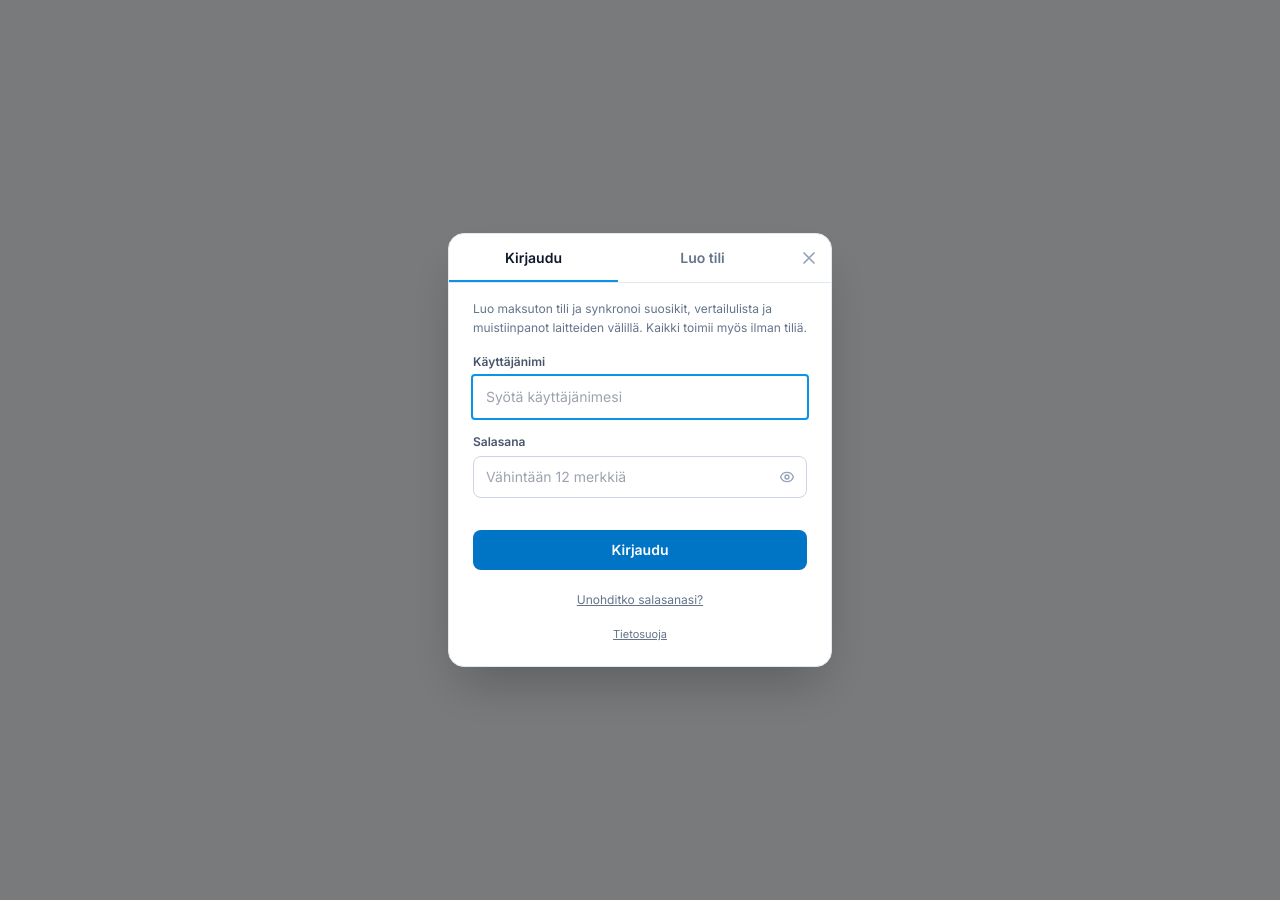
Test: AuthModal — forgot password › sends the request with the current UI language and confirms generically
Click the button "Unohditko salasanasi?". click: (640, 600)
box: [577,592,703,608]
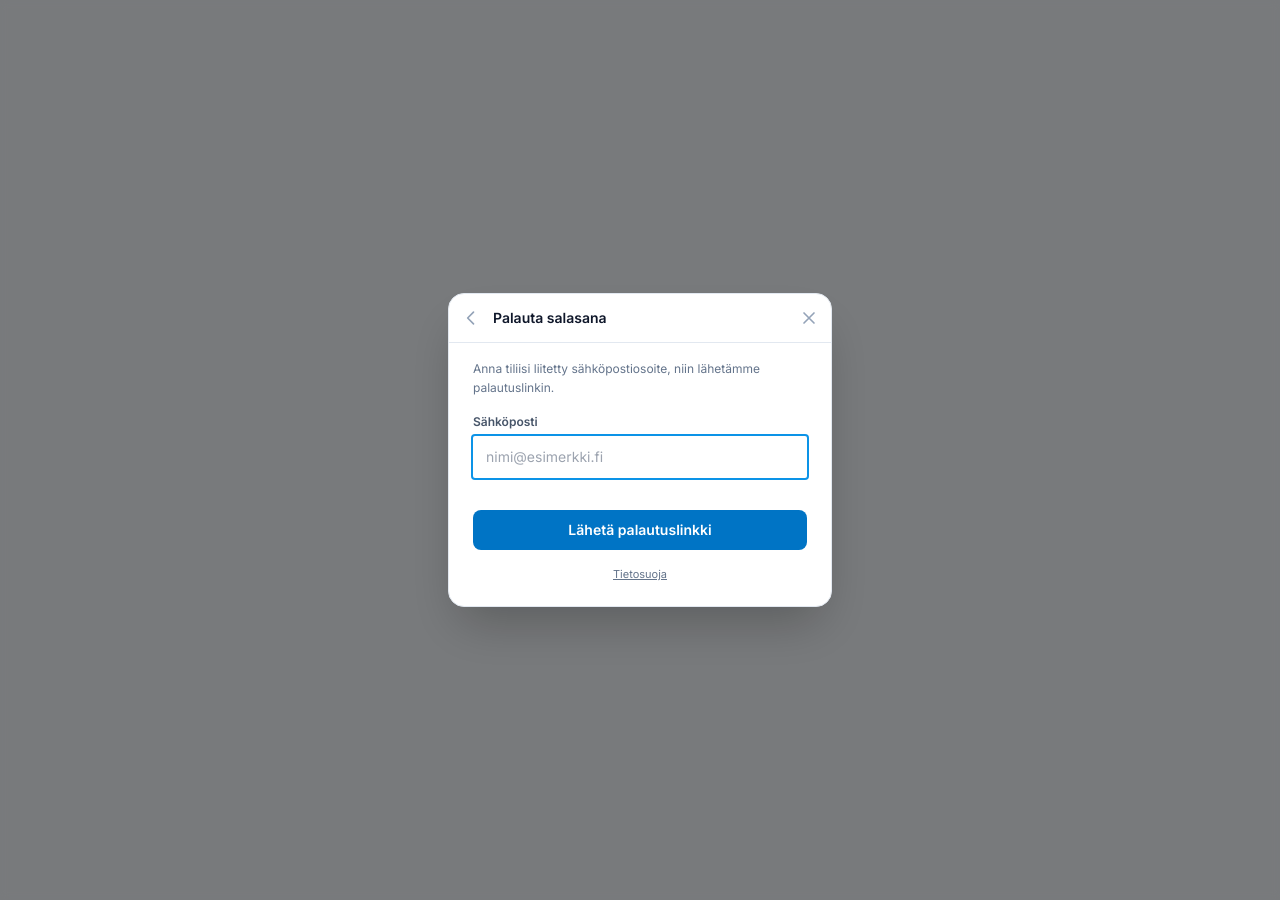
Type "someone@example.com" into the field labelled "Sähköposti". click: (640, 457)
box: [473,436,807,478]
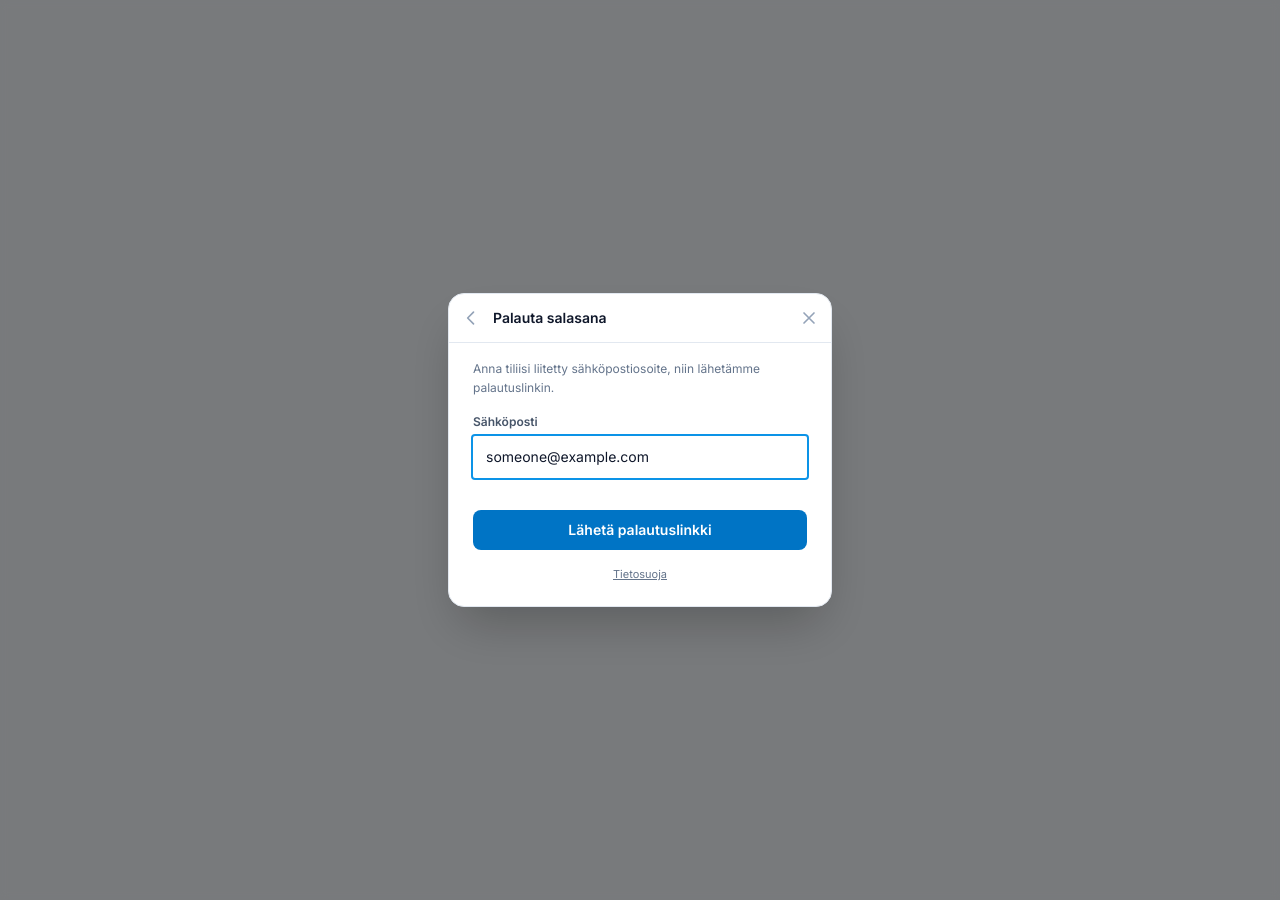
Click the button "Lähetä palautuslinkki". click: (640, 530)
box: [473,510,807,550]
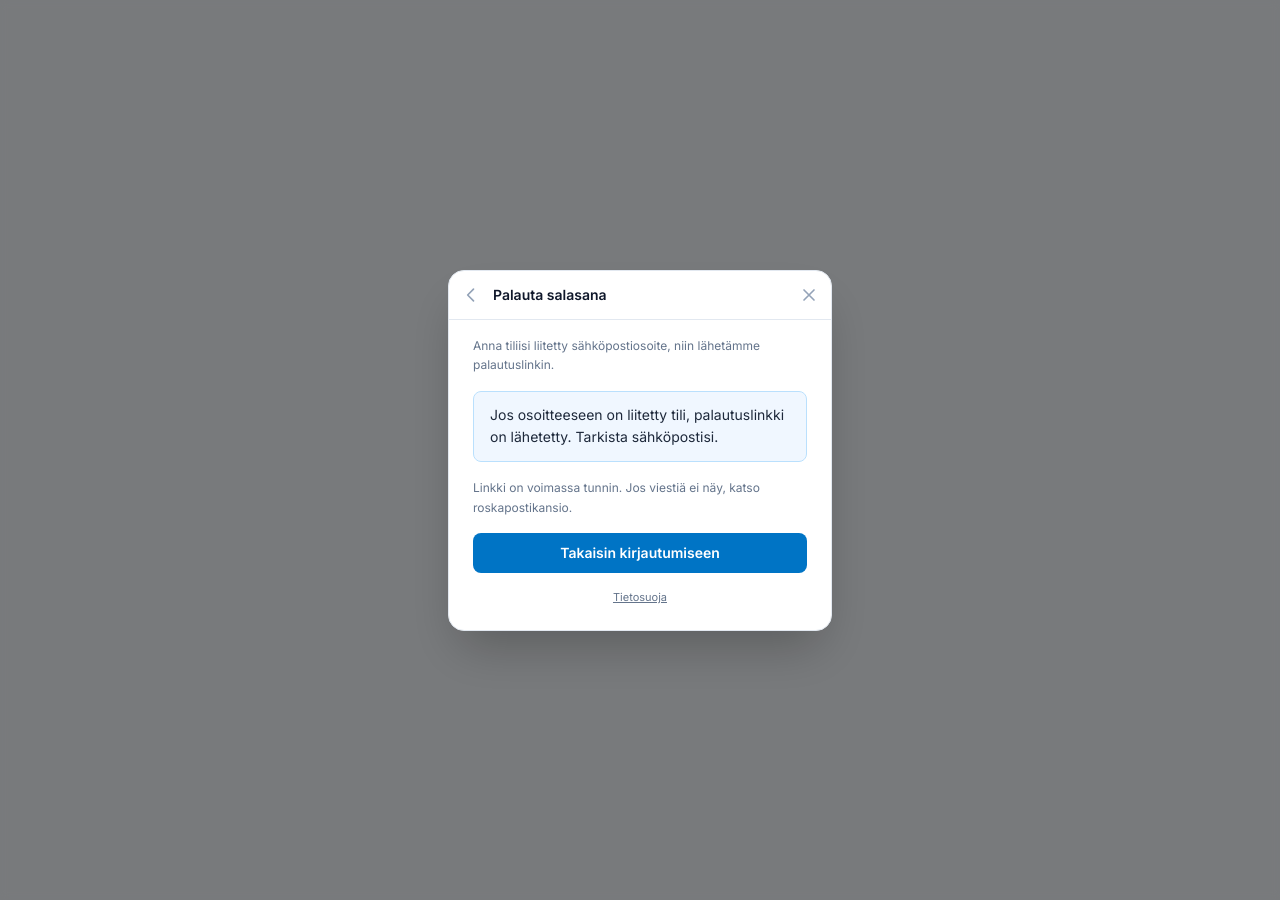
Expected: the text "Jos osoitteeseen on liitetty tili, palautuslinkki on lähetetty. Tarkista sähköpostisi." is shown, [490,406,784,445]
